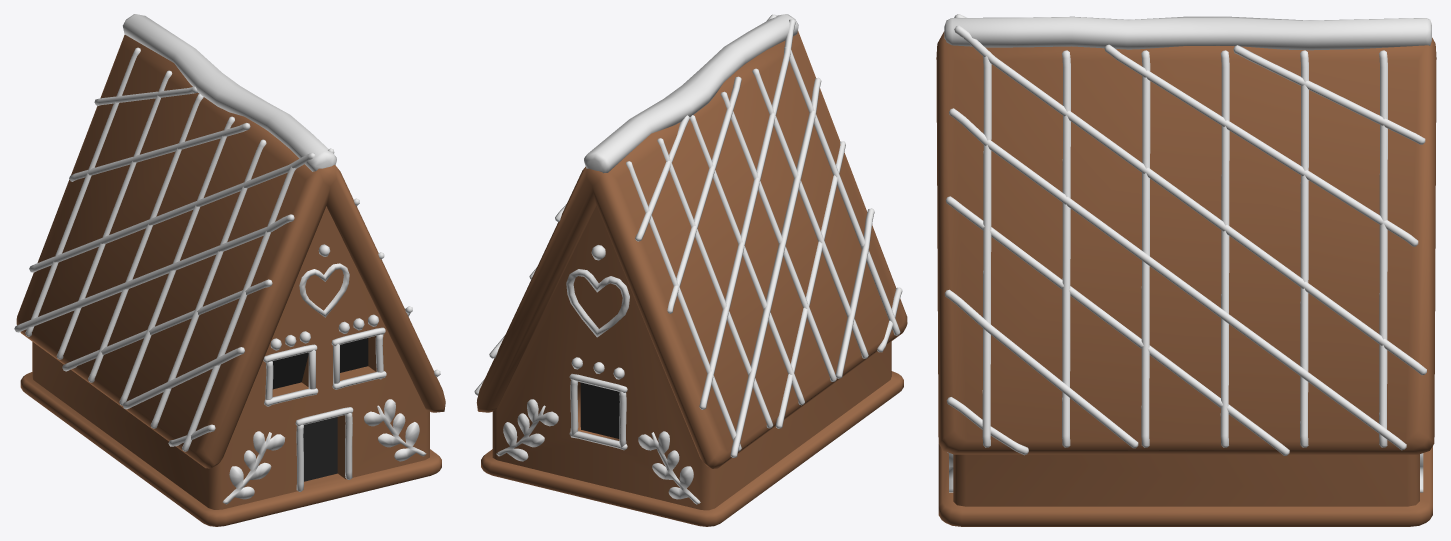
File: GingerBreadHouse_01.fbx
3 views of the same model, side by side, from view 1: azimuth 30°, elevation 25°; view 2: azimuth 150°, elevation 25°; view 3: azimuth 270°, elevation 25° (orthographic). The views are drawn at different scales.
Visible parts, largest first — view 1: GingerBreadHouse_01; view 2: GingerBreadHouse_01; view 3: GingerBreadHouse_01.
Boxes of the visible parts, <box> form: GingerBreadHouse_01: <box>14,14,445,526</box>; GingerBreadHouse_01: <box>474,14,907,526</box>; GingerBreadHouse_01: <box>936,14,1436,526</box>.
Size of the model in its own units: 0.256 by 0.3274 by 0.3368.
